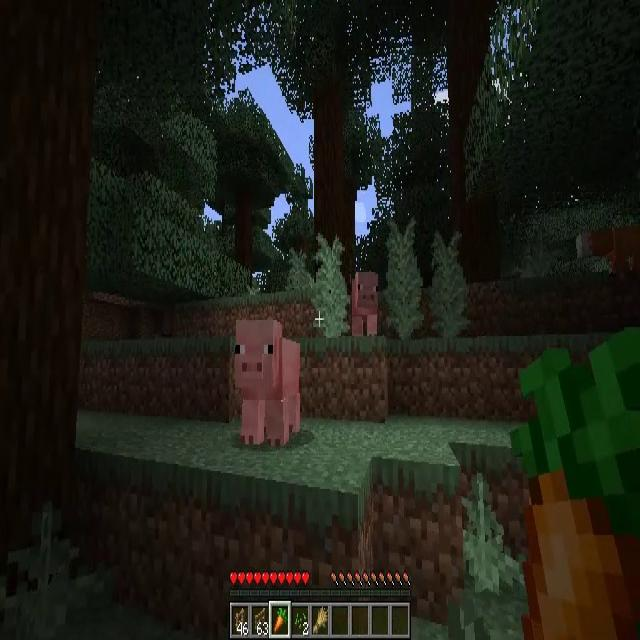pig: (234, 320, 300, 440), (351, 272, 378, 338)
